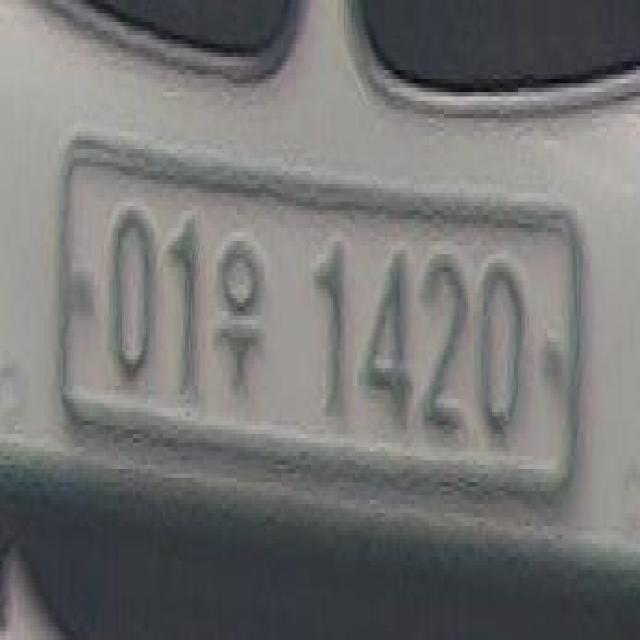illegal_plate: (60, 140, 586, 532)
